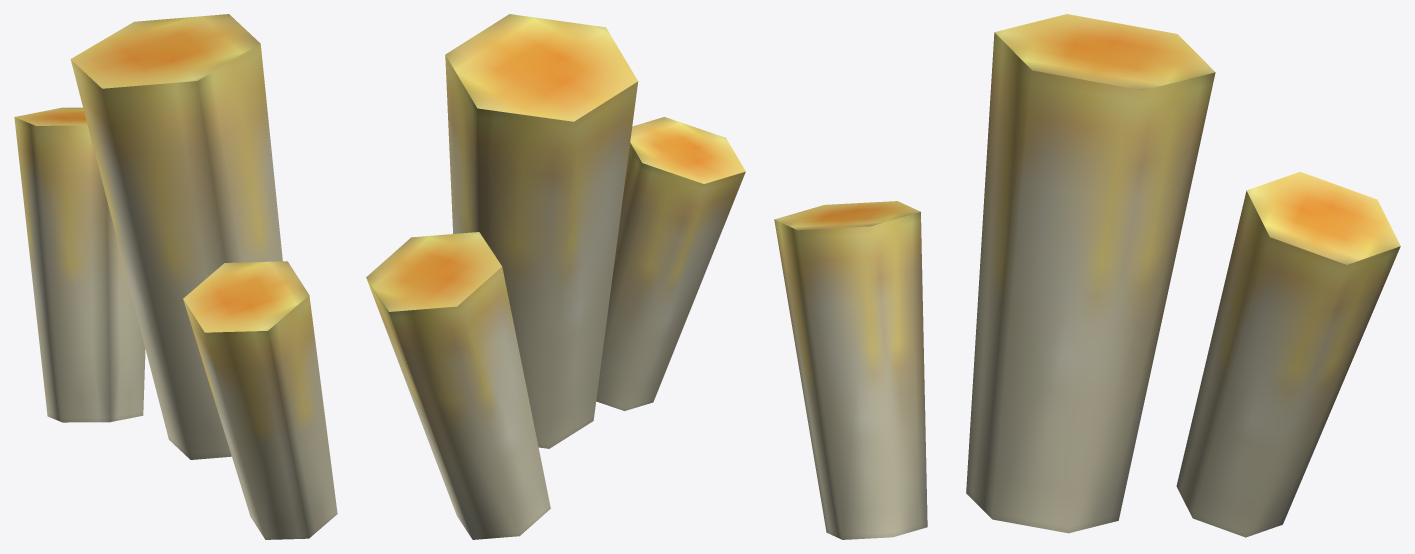
File: Area11_7.fbx
The picture shows the model from 3 angles, left to right: view 1: azimuth 30°, elevation 25°; view 2: azimuth 150°, elevation 25°; view 3: azimuth 270°, elevation 25°; orthographic projection. The views are drawn at different scales.
Parts seen in each view (by area): view 1: Area11_7; view 2: Area11_7; view 3: Area11_7.
Part boxes in pixels (x1,y1,x2,y2): Area11_7: [14, 14, 337, 539]; Area11_7: [366, 14, 745, 539]; Area11_7: [774, 14, 1400, 539].
Bounding box in the file's own units: 20.47 × 46.75 × 53.66.
